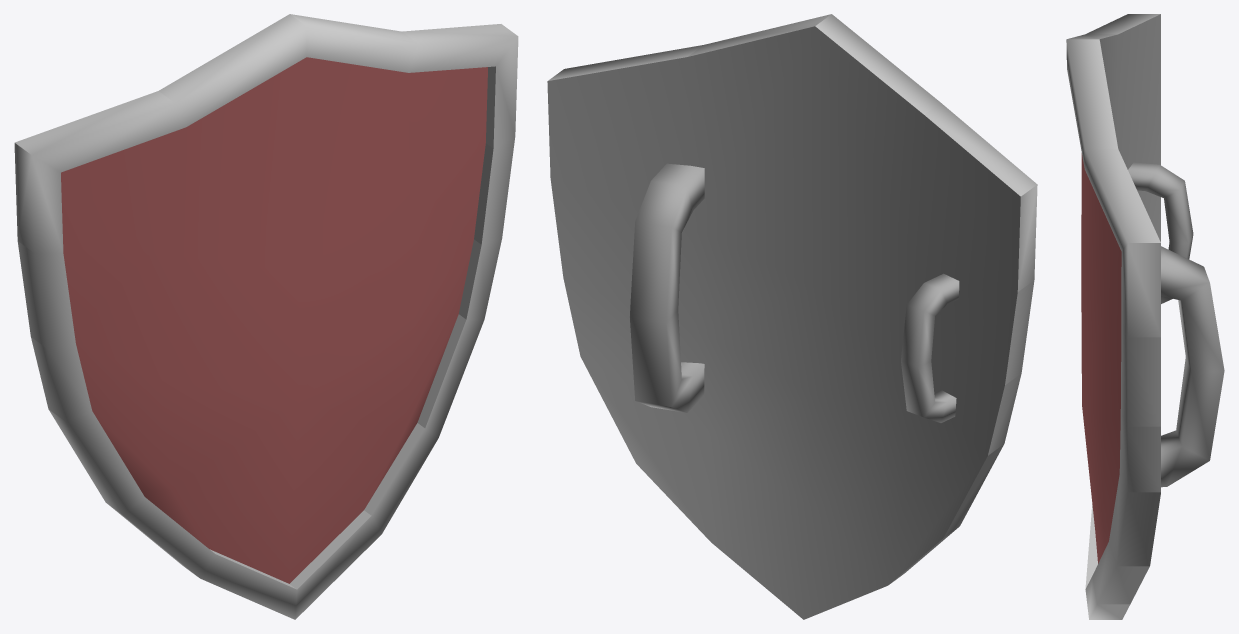
The model's file is Shield.fbx.
3 views of the same model, side by side, from view 1: azimuth 30°, elevation 25°; view 2: azimuth 150°, elevation 25°; view 3: azimuth 270°, elevation 25° (orthographic). The views are drawn at different scales.
Parts seen in each view (by area): view 1: Shield; view 2: Shield; view 3: Shield.
Boxes of the visible parts, <box> form: Shield: <box>14,14,518,619</box>; Shield: <box>547,14,1037,619</box>; Shield: <box>1066,14,1224,619</box>.
Size of the model in its own units: 1.95 by 2.3 by 0.5675.
